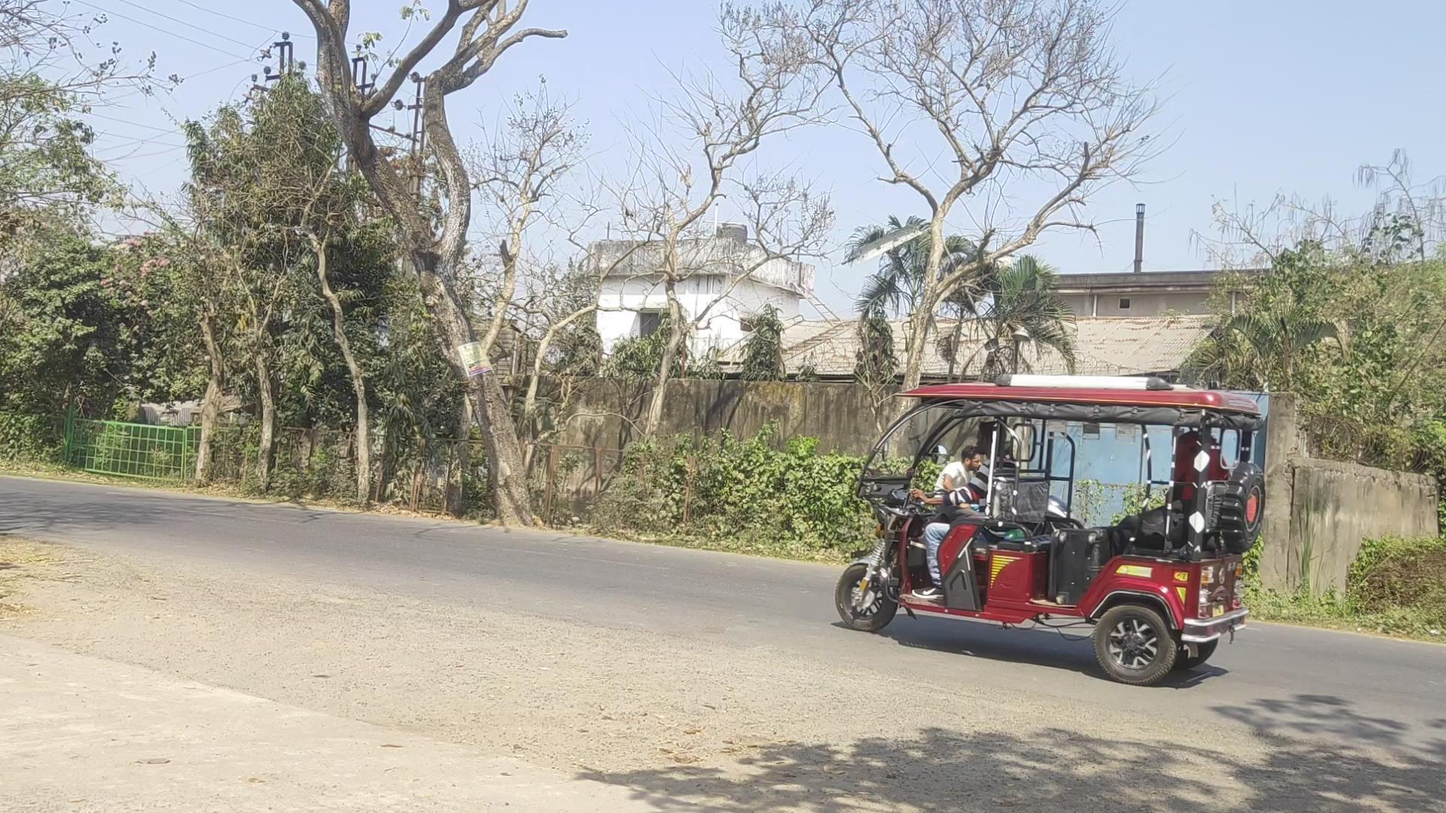Auto: (836, 373, 1264, 685)
